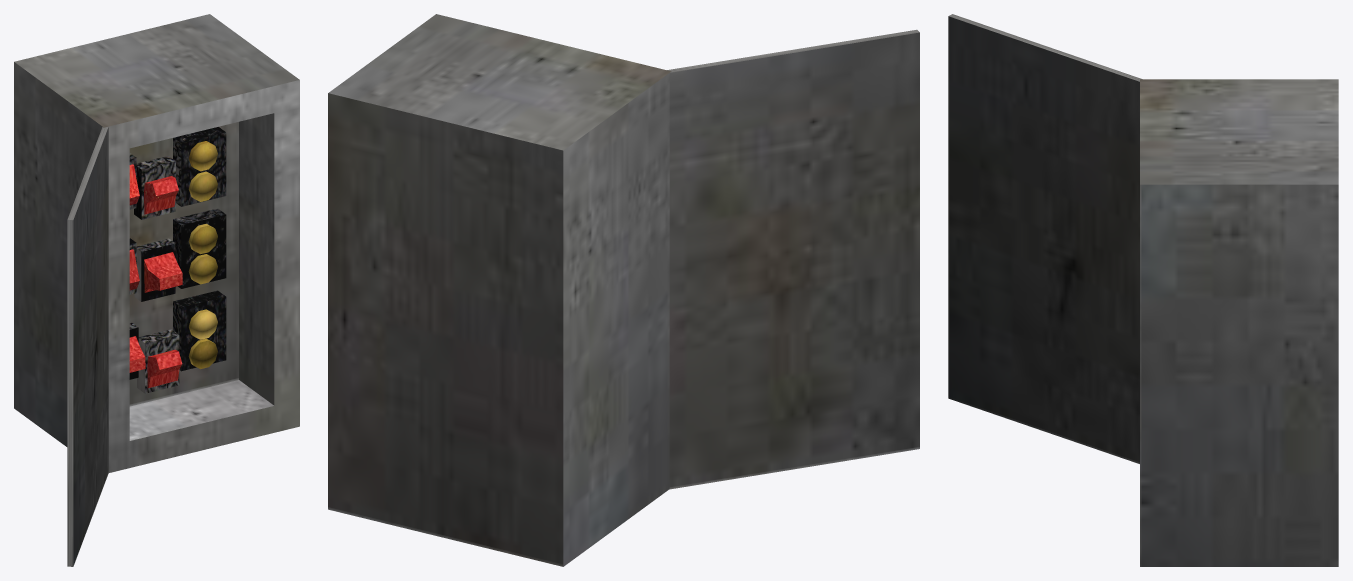
File: SM_FuseBox(Full).fbx
3 renders of one model, left to right at view 1: azimuth 30°, elevation 25°; view 2: azimuth 150°, elevation 25°; view 3: azimuth 270°, elevation 25°, orthographic. The views are drawn at different scales.
Parts seen in each view (by area): view 1: FuseBox; view 2: FuseBox; view 3: FuseBox.
Part boxes in pixels (x1,y1,x2,y2): FuseBox: [14, 14, 299, 566]; FuseBox: [328, 14, 919, 566]; FuseBox: [948, 14, 1338, 566].
Bounding box in the file's own units: 2.04 × 2.13 × 1.97.
